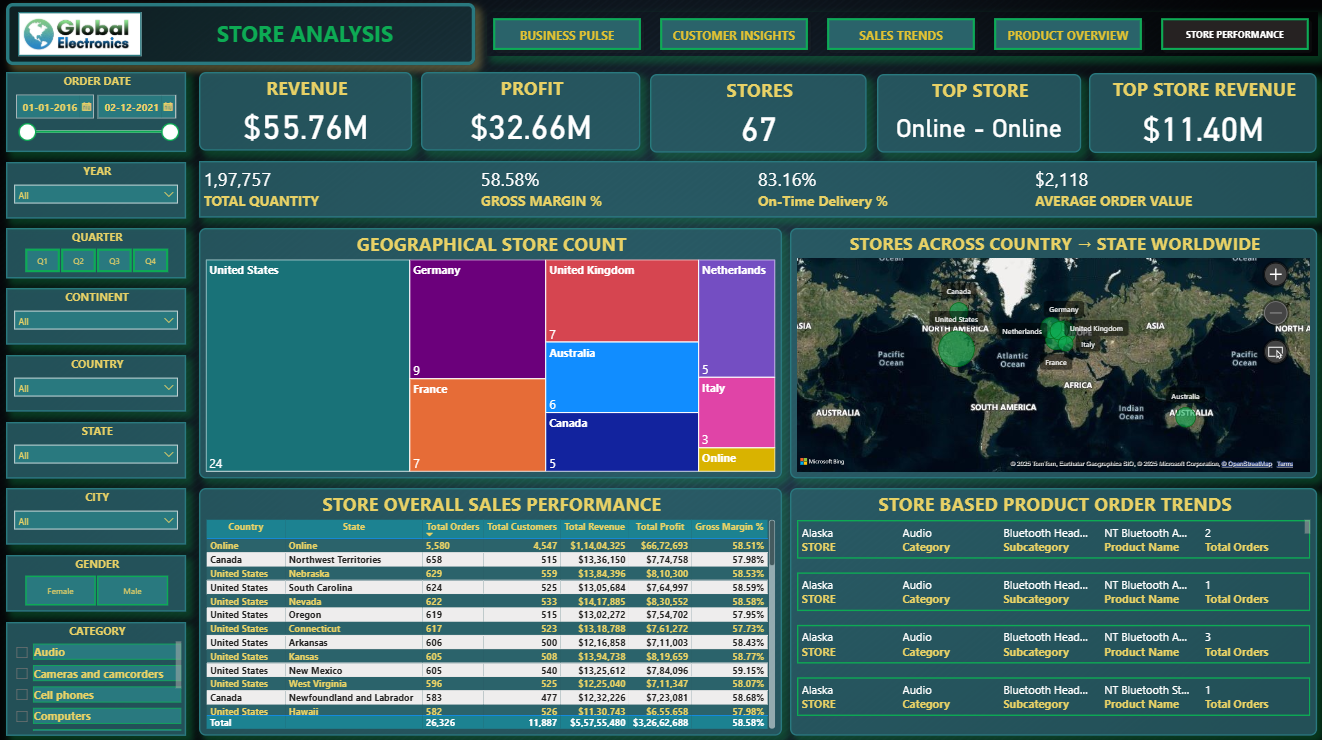

The dashboard page shown, as its layout file describes it:
{"tool":"powerbi","page":{"name":"STORE PERFORMANCE","canvas":[1920,1080],"ordinal":4},"visuals":[{"type":"shape","title":"title text box","box":[10.7,6.7,679.7,90],"z":0},{"type":"textbox","box":[205.5,22.8,475.5,59.1],"z":1000},{"type":"image","title":"Global electronics icon","box":[26.9,20.1,178.7,64.5],"z":2000},{"type":"slicer","title":"COUNTRY","fields":{"Values":["customers.Country"]},"box":[10.7,517,260.6,81.9],"z":3000},{"type":"slicer","title":"CONTINENT","fields":{"Values":["customers.Continent"]},"box":[10.7,420,260.6,81.9],"z":4000},{"type":"slicer","title":"STATE","fields":{"Values":["customers.State"]},"box":[10.7,614,260.6,81.9],"z":5000},{"type":"slicer","title":"CITY","fields":{"Values":["customers.City"]},"box":[10.7,710,260.6,81.9],"z":6000},{"type":"slicer","title":"GENDER","fields":{"Values":["customers.Gender"]},"box":[10.7,807,260.6,81.9],"z":7000},{"type":"slicer","title":"ORDER DATE","fields":{"Values":["Sales.Order Date"]},"box":[10.7,107.5,260.6,115.5],"z":8000},{"type":"slicer","title":"CATEGORY","fields":{"Values":["Products.Category"]},"box":[10.7,904,260.6,165.2],"z":9000},{"type":"slicer","title":"QUARTER","fields":{"Values":["Dim_Date.Quarter"]},"box":[10.7,333,260.6,72.5],"z":10000},{"type":"slicer","title":"YEAR","fields":{"Values":["Dim_Date.Year"]},"box":[10.7,237,260.6,81.9],"z":11000},{"type":"card","title":"REVENUE","fields":{"Values":["Financial Analysis.Total Revenue"]},"box":[290.1,107.5,309,114.2],"z":12000},{"type":"card","title":"STORES","fields":{"Values":["Store Analysis.Total Stores"]},"box":[943,110.1,314.3,114.2],"z":13000},{"type":"card","title":"TOP STORE","fields":{"Values":["Store Analysis.Top Store Label"]},"box":[1272.1,110.1,295.5,114.2],"z":14000},{"type":"card","title":"PROFIT","fields":{"Values":["Financial Analysis.Total Profit"]},"box":[611.2,107.5,318.4,114.2],"z":15000},{"type":"card","title":"TOP STORE REVENUE","fields":{"Values":["Store Analysis.Top Store Revenue"]},"box":[1579.7,108.8,330.4,115.5],"z":16000},{"type":"treemap","title":"GEOGRAPHICAL STORE COUNT","fields":{"Group":["Stores.Country"],"Values":["Store Analysis.Total Stores"]},"box":[290.1,333.1,844.9,362.7],"z":17000},{"type":"multiRowCard","fields":{"Values":["Product Analysis.Total Quantity","Financial Analysis.Gross Margin %","Product Analysis.On-Time Delivery %","Financial Analysis.Average Order Value"]},"box":[290.1,236.4,1620,81.9],"z":18000},{"type":"tableEx","title":"STORE OVERALL SALES PERFORMANCE","fields":{"Values":["Stores.Country","Stores.State","Financial Analysis.Total Orders","Customer Analysis.Total Customers","Financial Analysis.Total Revenue","Financial Analysis.Total Profit","Financial Analysis.Gross Margin %"]},"box":[290.1,710.6,844.9,358.7],"z":19000},{"type":"multiRowCard","title":"STORE BASED PRODUCT ORDER TRENDS","fields":{"Values":["Stores.State","Products.Category","Products.Subcategory","Products.Product Name","Financial Analysis.Total Orders"]},"box":[1145.8,710.6,764.3,358.7],"z":20000},{"type":"map","title":"STORES ACROSS COUNTRY → STATE WORLDWIDE ","fields":{"Category":["Stores.Country","Stores.State"],"Size":["CountNonNull(Stores.StoreKey)"]},"box":[1145.8,333.1,764.3,362.7],"z":21000},{"type":"pageNavigator","box":[706.6,20.1,1203.6,64.5],"z":21001}]}

Visuals, with their boxes in screenshot pixels (x1, y1, x2, y2), scaled from the page's 1920x1080 canvas onto the 1322x740 screenshot:
"title text box" shape: l=7, t=5, r=475, b=66
textbox: l=141, t=16, r=469, b=56
"Global electronics icon" image: l=19, t=14, r=142, b=58
"COUNTRY" slicer: l=7, t=354, r=187, b=410
"CONTINENT" slicer: l=7, t=288, r=187, b=344
"STATE" slicer: l=7, t=421, r=187, b=477
"CITY" slicer: l=7, t=486, r=187, b=543
"GENDER" slicer: l=7, t=553, r=187, b=609
"ORDER DATE" slicer: l=7, t=74, r=187, b=153
"CATEGORY" slicer: l=7, t=619, r=187, b=733
"QUARTER" slicer: l=7, t=228, r=187, b=278
"YEAR" slicer: l=7, t=162, r=187, b=219
"REVENUE" card: l=200, t=74, r=413, b=152
"STORES" card: l=649, t=75, r=866, b=154
"TOP STORE" card: l=876, t=75, r=1079, b=154
"PROFIT" card: l=421, t=74, r=640, b=152
"TOP STORE REVENUE" card: l=1088, t=75, r=1315, b=154
"GEOGRAPHICAL STORE COUNT" treemap: l=200, t=228, r=781, b=477
multiRowCard - Product Analysis.Total Quantity x Financial Analysis.Gross Margin %: l=200, t=162, r=1315, b=218
"STORE OVERALL SALES PERFORMANCE" tableEx: l=200, t=487, r=781, b=733
"STORE BASED PRODUCT ORDER TRENDS" multiRowCard: l=789, t=487, r=1315, b=733
"STORES ACROSS COUNTRY → STATE WORLDWIDE " map: l=789, t=228, r=1315, b=477
pageNavigator: l=487, t=14, r=1315, b=58
